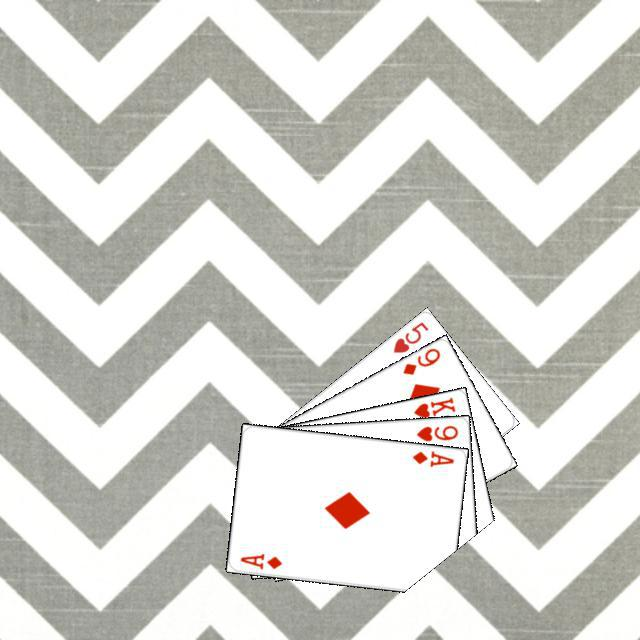5h: (388, 317, 430, 355)
9d: (398, 343, 442, 377)
9h: (411, 420, 460, 443)
Ad: (407, 446, 456, 469), (235, 549, 283, 571)
Kh: (407, 392, 457, 426)
